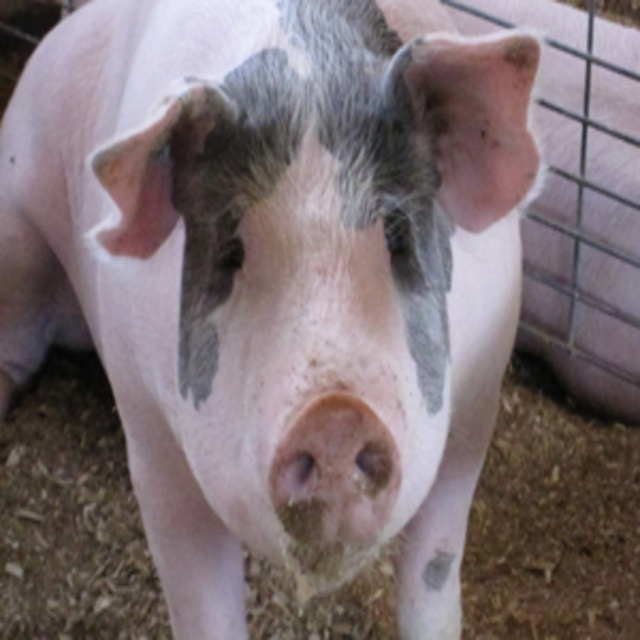Pig: (0, 0, 553, 637)
